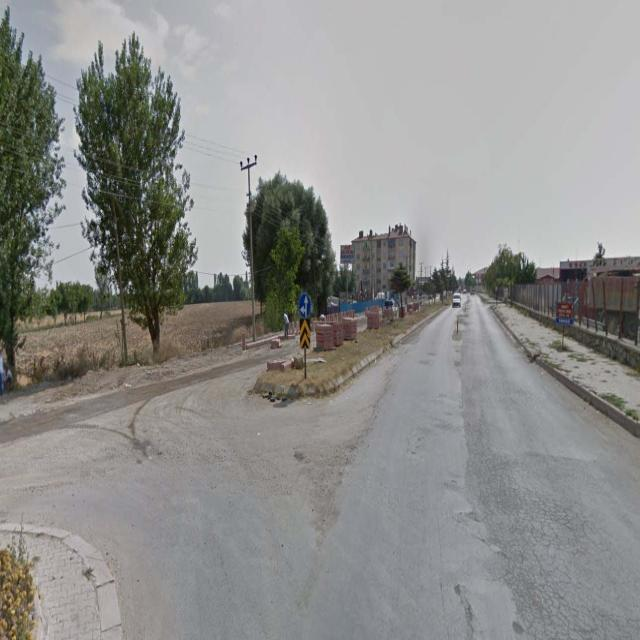ilerisol: (299, 292, 310, 318)
